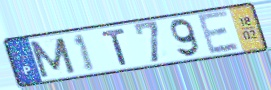1: (72, 32, 96, 74)
7: (132, 19, 163, 65)
9: (169, 17, 201, 58)
E: (195, 9, 242, 57)
M: (26, 35, 78, 80)
T: (100, 27, 130, 67)
